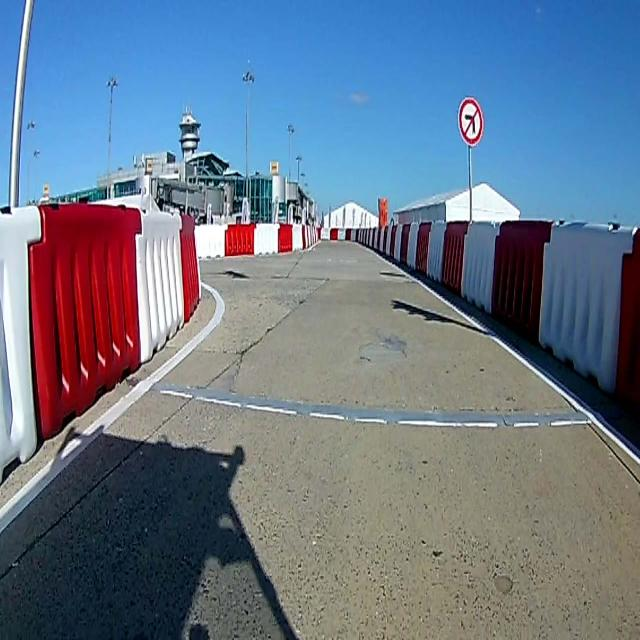soladonulmez: (455, 97, 486, 147)
